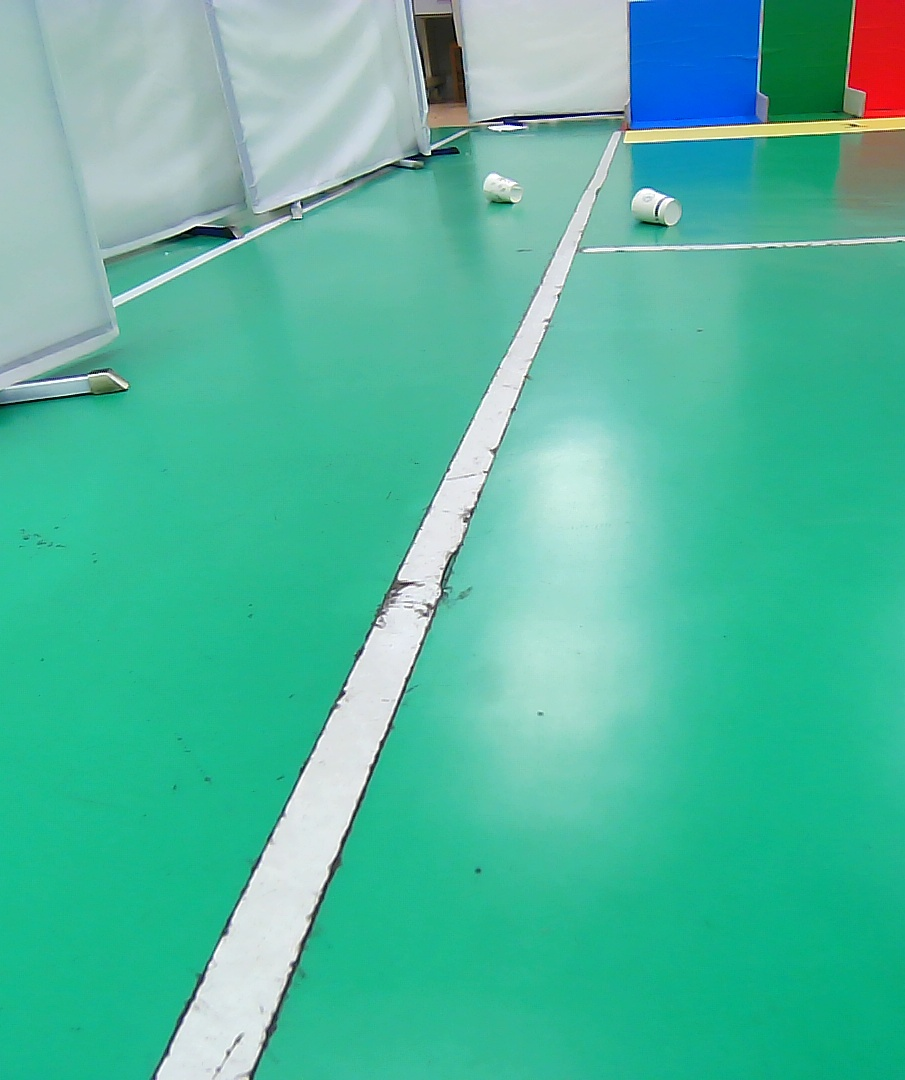papercup: (628, 185, 681, 229), (480, 171, 524, 205)
